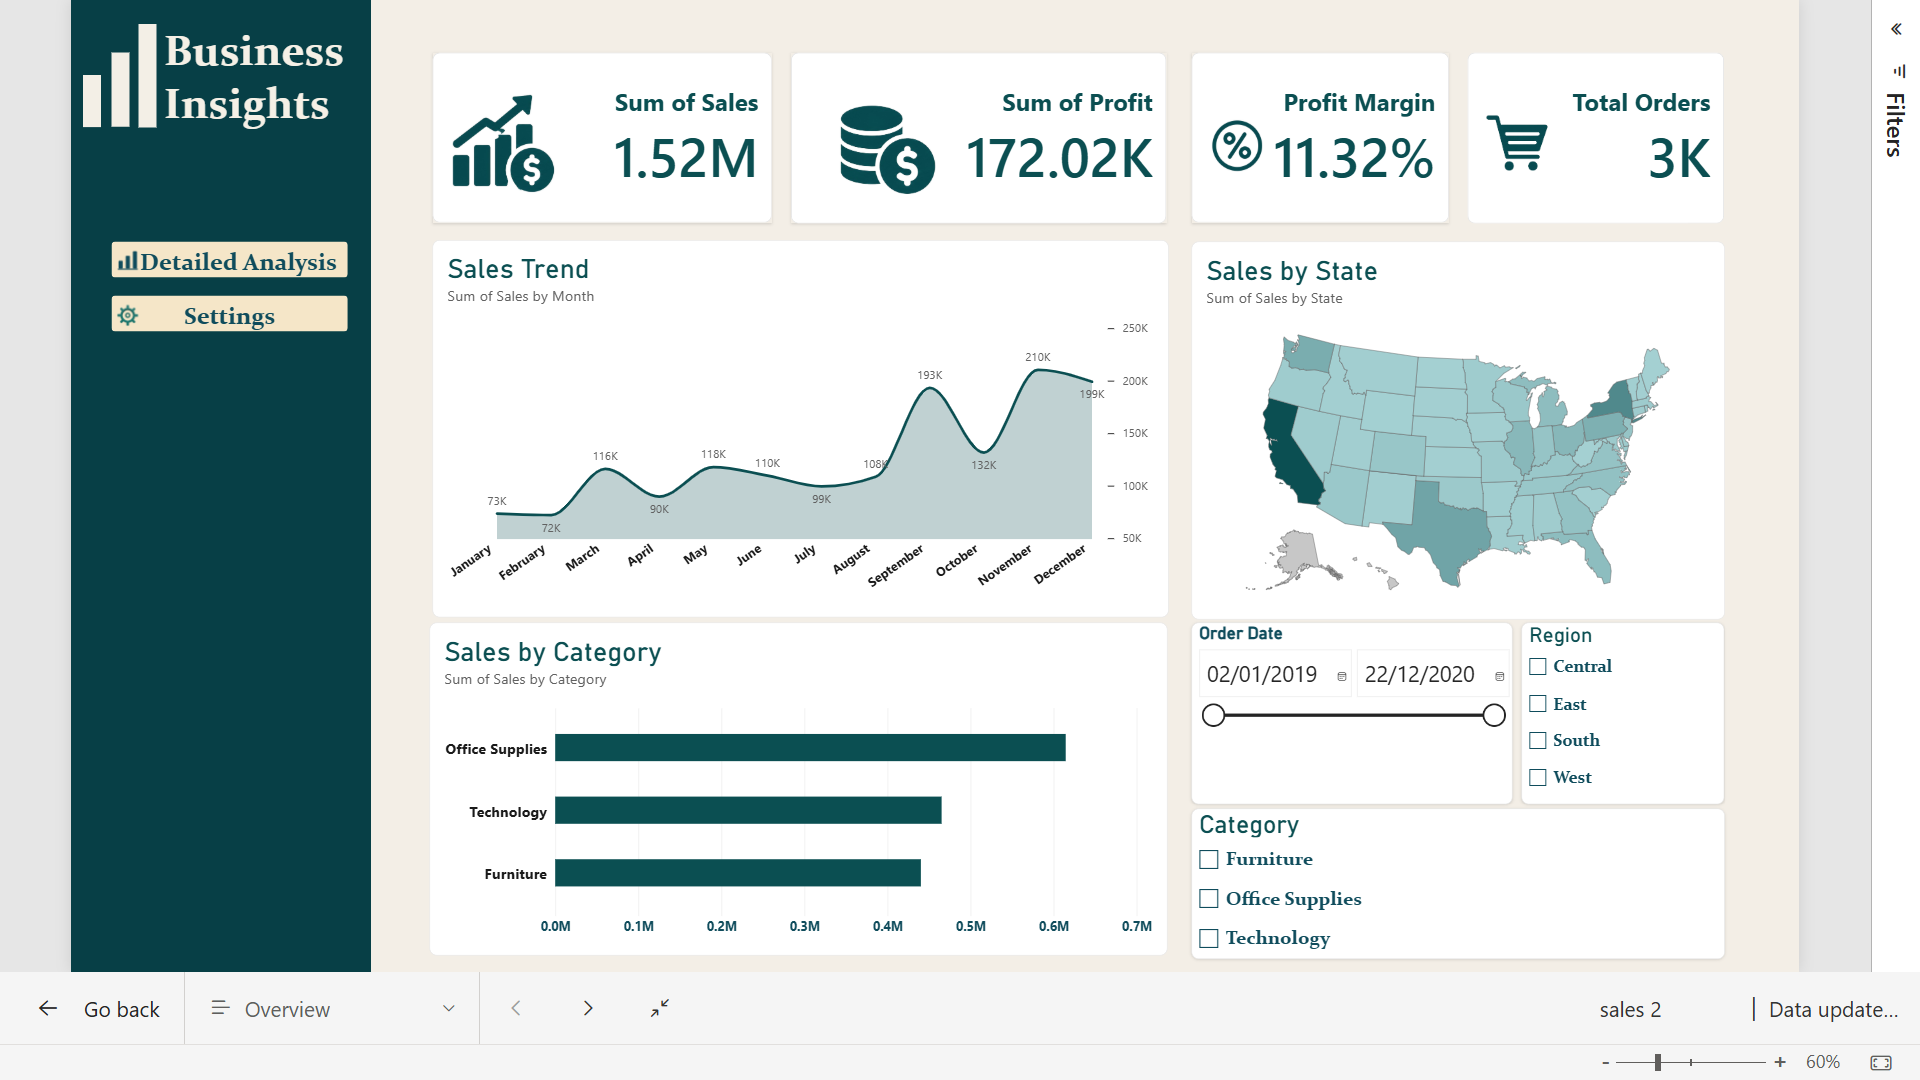

The page's visual inventory and layout, read from the dashboard file:
{"tool":"powerbi","page":{"name":"Overview","canvas":[1920,1080],"ordinal":0},"visuals":[{"type":"shape","box":[0,0,333.3,1080],"z":0},{"type":"textbox","box":[102.7,26.4,187.3,158.2],"z":1000},{"type":"textbox","box":[103.3,26.7,296.7,156.7],"z":2000},{"type":"cardVisual","fields":{"Data":["Sum(Cleaned Data.Sales)"]},"box":[400.9,58.6,377.5,189.9],"z":6000},{"type":"cardVisual","fields":{"Data":["Sum(Cleaned Data.Profit)"]},"box":[800,57.5,417.5,190],"z":7000},{"type":"cardVisual","fields":{"Data":["Cleaned Data.Profit Margin"]},"box":[1244.9,58.6,286,189.9],"z":8000},{"type":"cardVisual","fields":{"Data":["Cleaned Data.Total Orders"]},"box":[1552,58.6,285,190],"z":9000},{"type":"lineChart","title":"Sales Trend","fields":{"Category":["Cleaned Data.Order Date.Variation.Date Hierarchy.Month"],"Y2":["Sum(Cleaned Data.Sales)"]},"box":[400.9,267.3,818.2,419.7],"z":10000},{"type":"clusteredBarChart","title":"Sales by Category","fields":{"Category":["Cleaned Data.Category"],"Y":["Sum(Cleaned Data.Sales)"]},"box":[397.8,692.2,820,370],"z":11000},{"type":"shape","box":[74.4,25.9,20,115],"z":12000},{"type":"shape","box":[45,57.5,20,82.5],"z":13000},{"type":"shapeMap","title":"Sales by State","fields":{"Category":["Cleaned Data.State"],"Value":["Sum(Cleaned Data.Sales)"]},"box":[1245,267.5,592.5,420],"z":14001},{"type":"slicer","fields":{"Values":["Cleaned Data.Order Date"]},"box":[1245.6,692.2,356.7,202.2],"z":14002},{"type":"slicer","fields":{"Values":["Cleaned Data.Region"]},"box":[1612.2,692.2,225.6,202.2],"z":14003},{"type":"slicer","fields":{"Values":["Cleaned Data.Category"]},"box":[1245,897.5,592.5,167.5],"z":14004},{"type":"shape","box":[13.7,83.2,20,57.9],"z":14005},{"type":"actionButton","box":[45,267.5,262.5,40],"z":14007},{"type":"actionButton","box":[45.2,328.2,262.5,40],"z":14008},{"type":"image","box":[370,55,220.4,204],"z":14009},{"type":"image","box":[778.4,61,255.5,206.3],"z":14010},{"type":"image","box":[1519.2,98.5,175.8,119.6],"z":14011},{"type":"image","box":[1219.1,105.5,150,112.5],"z":14012}]}

Visuals, with their boxes on the page's 1920x1080 design canvas (x1, y1, x2, y2). These are canvas units, not pixel positions in the 1920x1080 screenshot, which may show the page scaled, cropped or inside an application window:
shape: BBox(0, 0, 333, 1080)
textbox: BBox(103, 26, 290, 185)
textbox: BBox(103, 27, 400, 183)
cardVisual - Sum(Cleaned Data.Sales): BBox(401, 59, 778, 248)
cardVisual - Sum(Cleaned Data.Profit): BBox(800, 58, 1218, 248)
cardVisual - Cleaned Data.Profit Margin: BBox(1245, 59, 1531, 248)
cardVisual - Cleaned Data.Total Orders: BBox(1552, 59, 1837, 249)
"Sales Trend" lineChart: BBox(401, 267, 1219, 687)
"Sales by Category" clusteredBarChart: BBox(398, 692, 1218, 1062)
shape: BBox(74, 26, 94, 141)
shape: BBox(45, 58, 65, 140)
"Sales by State" shapeMap: BBox(1245, 268, 1838, 688)
slicer - Cleaned Data.Order Date: BBox(1246, 692, 1602, 894)
slicer - Cleaned Data.Region: BBox(1612, 692, 1838, 894)
slicer - Cleaned Data.Category: BBox(1245, 898, 1838, 1065)
shape: BBox(14, 83, 34, 141)
actionButton: BBox(45, 268, 308, 308)
actionButton: BBox(45, 328, 308, 368)
image: BBox(370, 55, 590, 259)
image: BBox(778, 61, 1034, 267)
image: BBox(1519, 98, 1695, 218)
image: BBox(1219, 106, 1369, 218)
